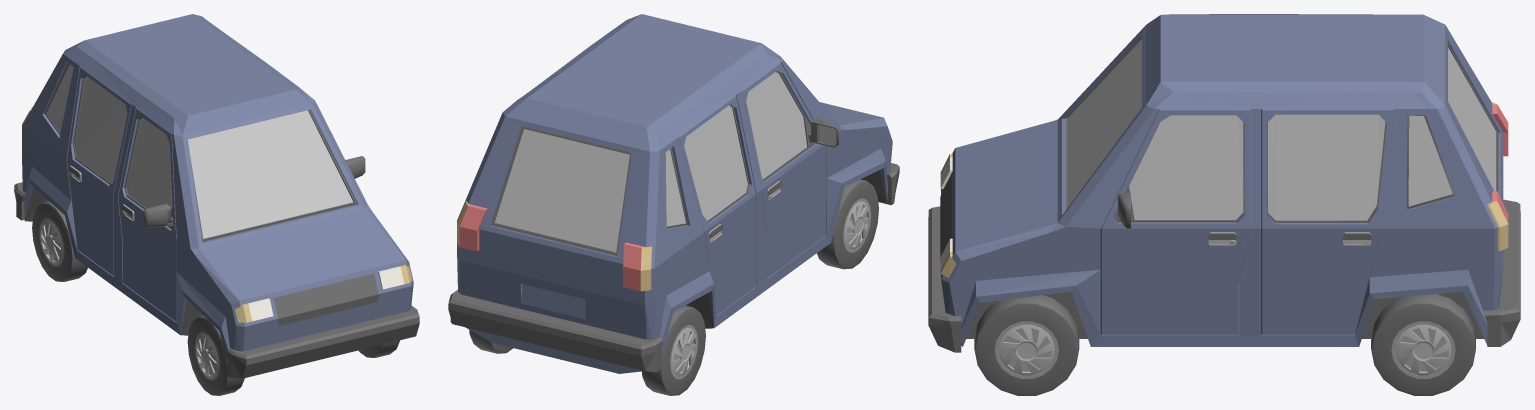
File: car (1).fbx
3 views of the same model, side by side, from view 1: azimuth 30°, elevation 25°; view 2: azimuth 150°, elevation 25°; view 3: azimuth 270°, elevation 25° (orthographic). The views are drawn at different scales.
Visible parts, largest first — view 1: Chassis, Windows, FR_Door, RR_Door, RR_Wheel, FR_Wheel, Front_Lights, FL_Wheel; view 2: Chassis, Windows, FR_Door, RR_Door, FR_Wheel, RR_Wheel, Brake_Lights, Turn_Lights_r, RL_Wheel; view 3: Chassis, FL_Door, RL_Door, Windows, RL_Wheel, FL_Wheel, Turn_Lights_l, Brake_Lights.
Boxes of the visible parts, x1,y1,x2,y2 form: Chassis: (14, 14, 419, 378); Windows: (46, 64, 353, 238); FR_Door: (118, 108, 176, 321); RR_Door: (67, 67, 131, 276); RR_Wheel: (32, 201, 87, 281); FR_Wheel: (187, 315, 244, 395); Front_Lights: (248, 266, 404, 321); FL_Wheel: (358, 340, 399, 357); Chassis: (448, 14, 899, 373); Windows: (495, 129, 685, 252); FR_Door: (741, 62, 838, 278); RR_Door: (678, 95, 756, 315); FR_Wheel: (817, 179, 878, 269); RR_Wheel: (642, 305, 705, 395); Brake_Lights: (459, 204, 643, 291); Turn_Lights_r: (640, 246, 652, 291); RL_Wheel: (469, 330, 513, 353); Chassis: (928, 14, 1520, 352); FL_Door: (1100, 109, 1250, 334); RL_Door: (1261, 109, 1393, 334); Windows: (1068, 39, 1495, 207); RL_Wheel: (1371, 294, 1475, 395); FL_Wheel: (974, 295, 1079, 395); Turn_Lights_l: (940, 201, 1508, 277); Brake_Lights: (1492, 104, 1508, 223).
Size of the model in its own units: 514 by 515 by 939.
